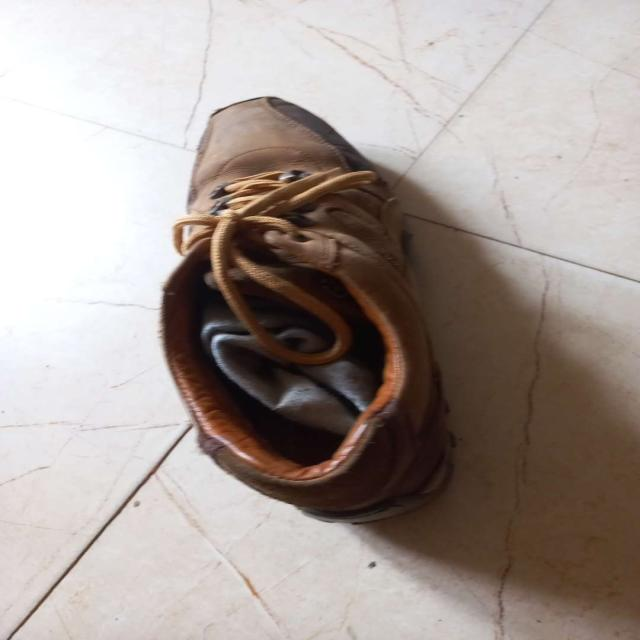shoes: (154, 94, 461, 528)
